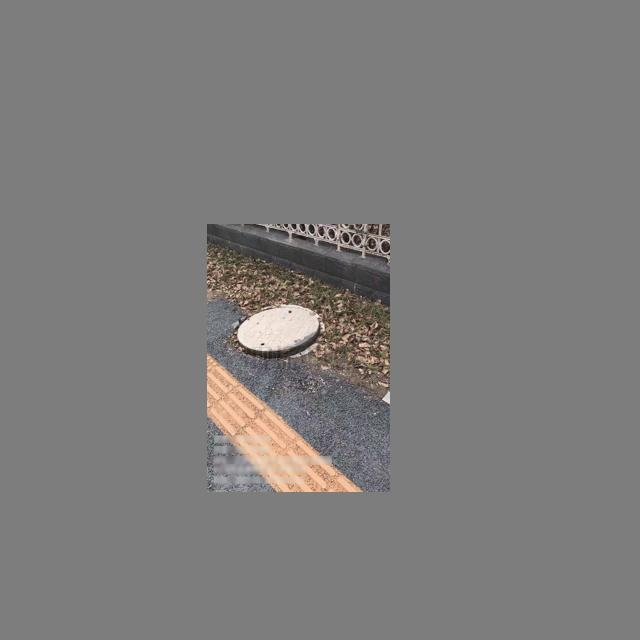uncovered: (233, 302, 325, 356)
